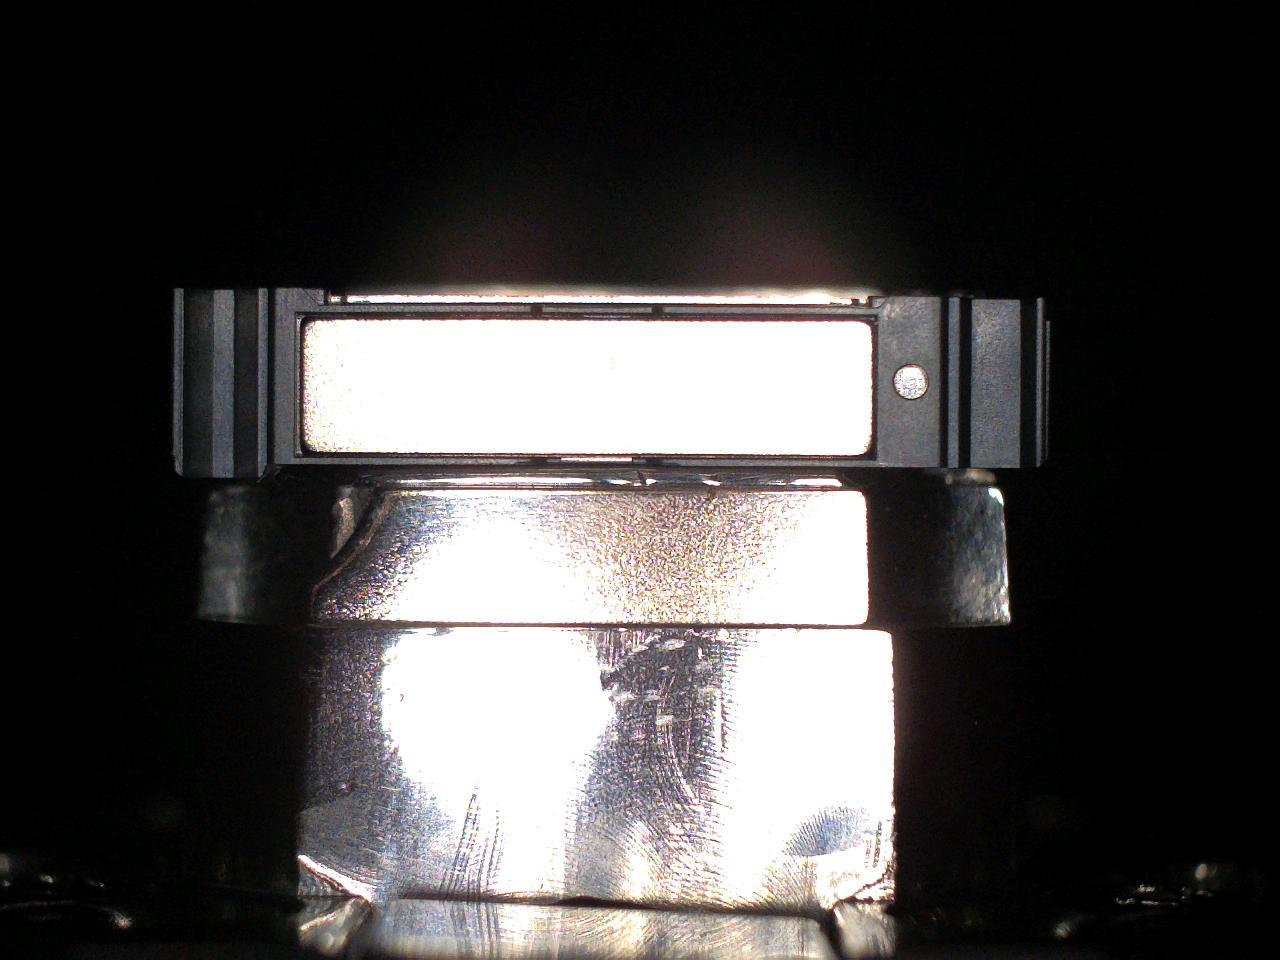frame: (174, 289, 1051, 479)
gap: (664, 313, 879, 321), (295, 314, 532, 320), (660, 454, 878, 460), (303, 453, 532, 458), (542, 313, 652, 321), (547, 454, 647, 458)
magnetic: (305, 321, 871, 456)
